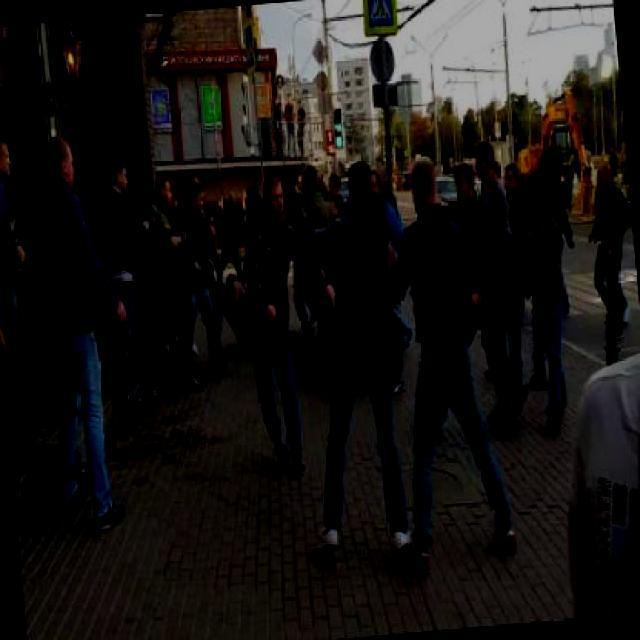fight: (229, 163, 417, 563)
non-fight: (25, 131, 147, 537)
